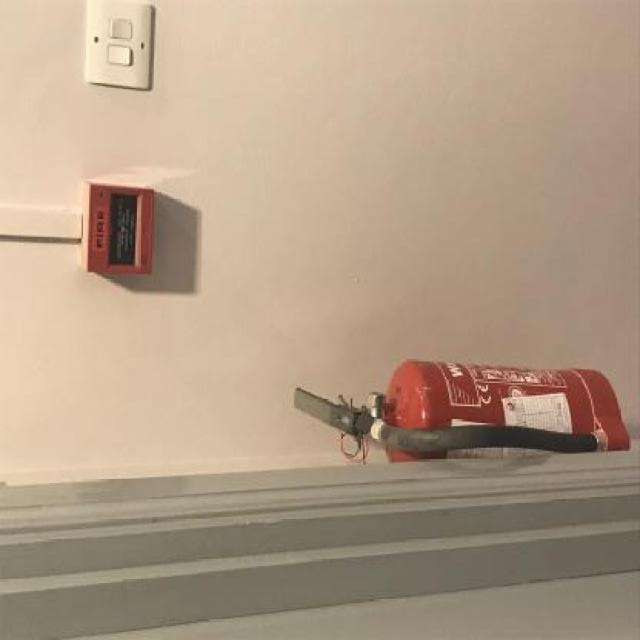fire extinguisher: (291, 355, 634, 467)
